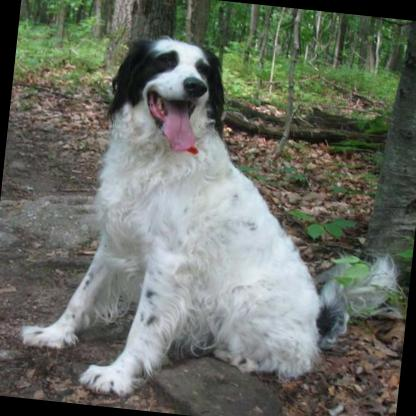English_setter: (5, 18, 416, 416)
